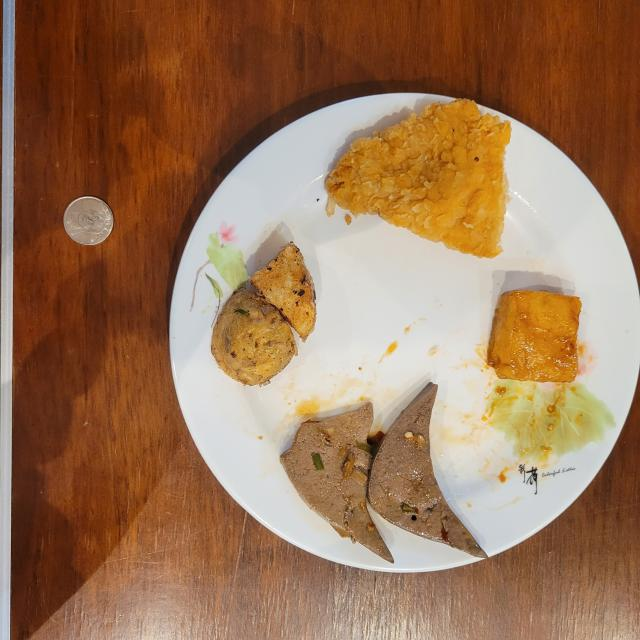coin: (64, 196, 114, 245)
creamy tofu: (488, 290, 581, 382)
fried chicken cutlet: (325, 99, 511, 258)
fried potato: (211, 242, 316, 385)
pig liver: (280, 382, 488, 562)
